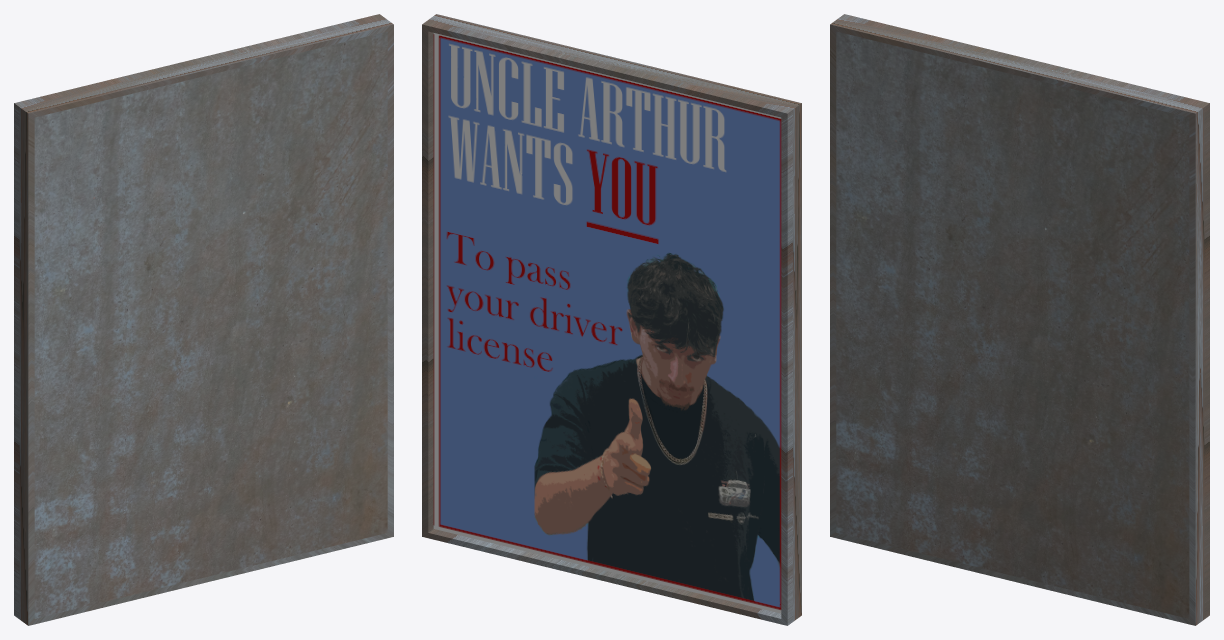
The picture shows the model from 3 angles, left to right: view 1: azimuth 30°, elevation 25°; view 2: azimuth 150°, elevation 25°; view 3: azimuth 330°, elevation 25°; orthographic projection.
Parts seen in each view (by area): view 1: ad1.001; view 2: ad1.001; view 3: ad1.001.
Part boxes in pixels (x1=…): ad1.001: x1=14, y1=14, x2=393, y2=625; ad1.001: x1=422, y1=14, x2=801, y2=625; ad1.001: x1=830, y1=14, x2=1209, y2=625.
Bounding box in the file's own units: 145 × 194 × 9.81.
Materials: 2 (2 with a texture image).
